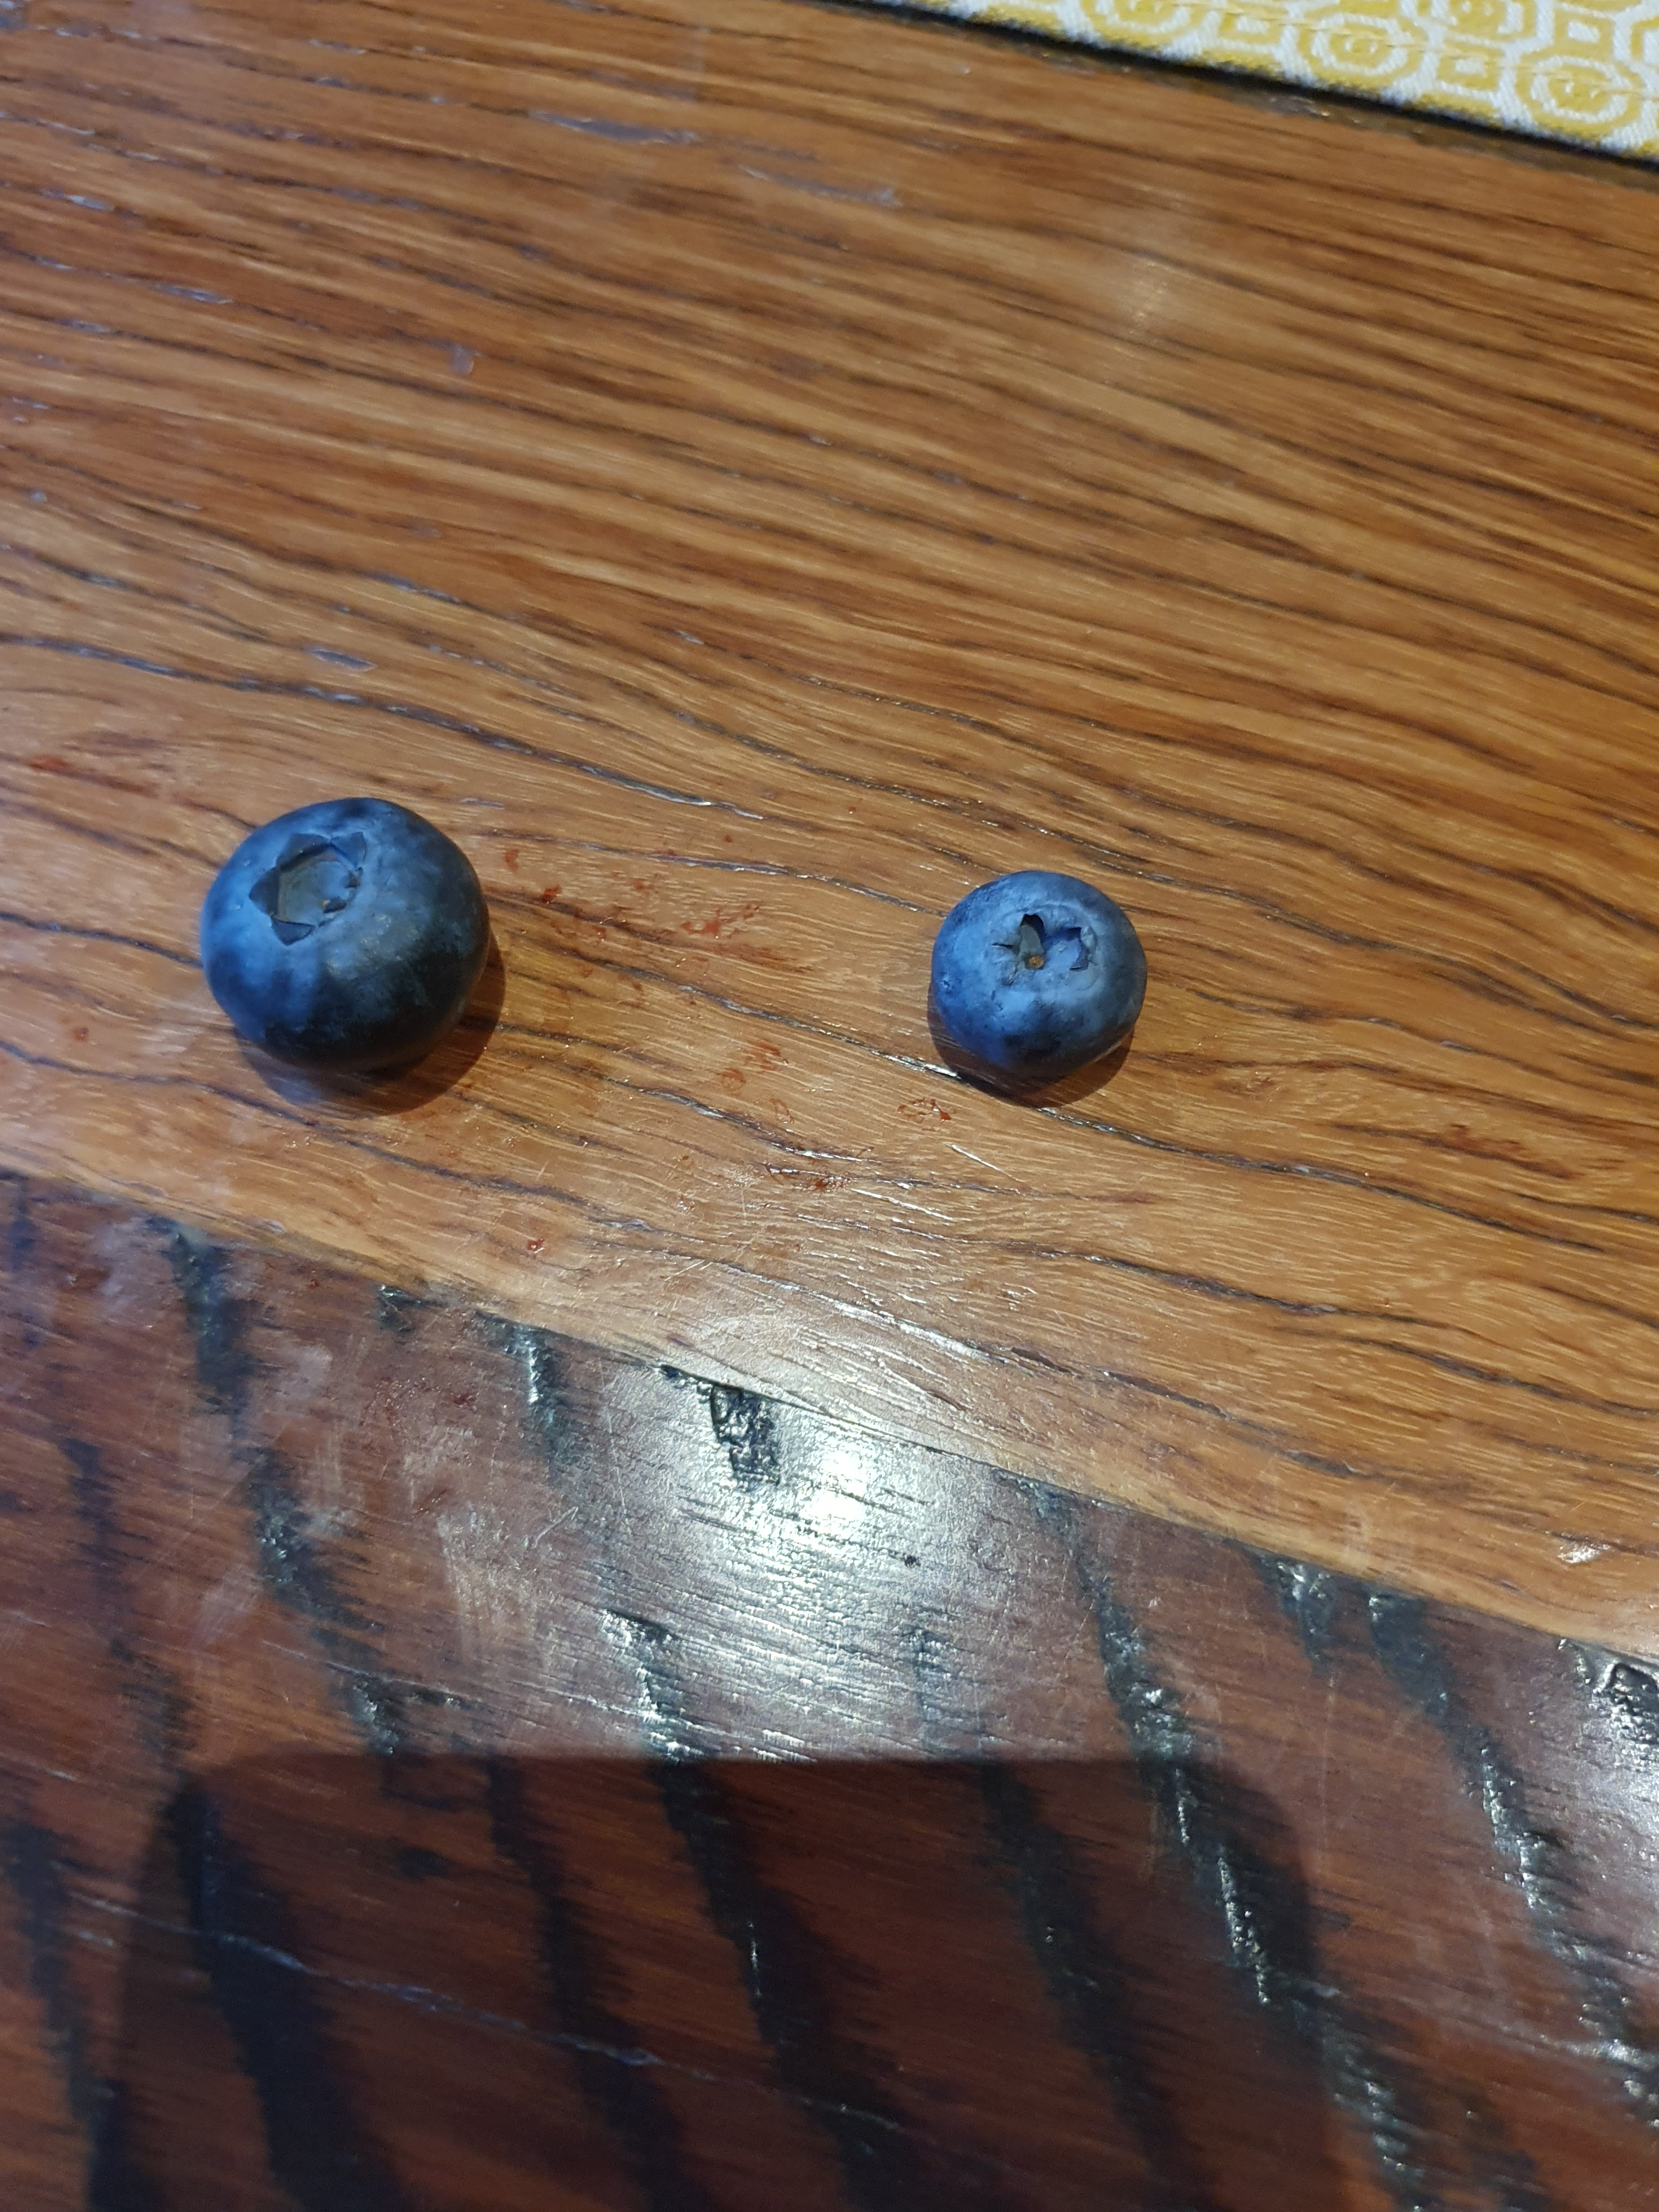blueberry: (173, 784, 507, 1090), (892, 820, 1171, 1103)
